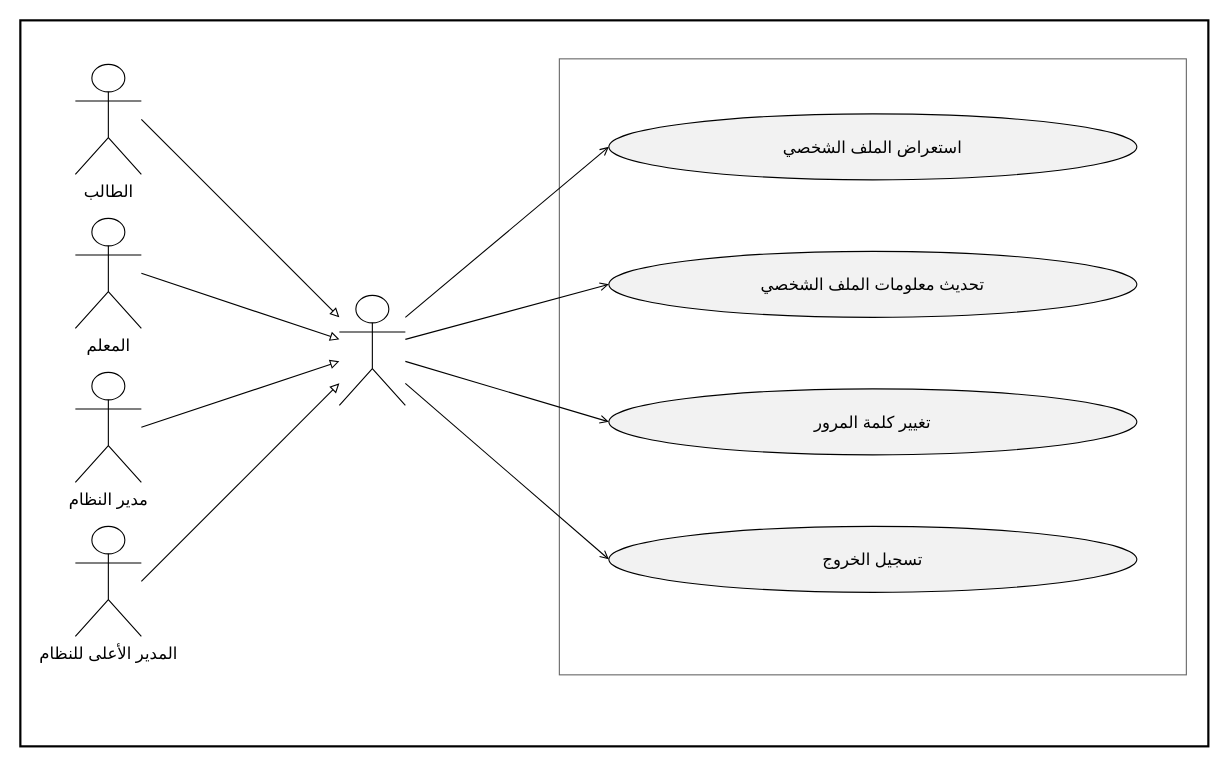
Some shapes in this 1228 by 766 pixel diagram are drawn without their labels. The shapes that lost their labels are listed below. From the top down, each one's box as (x1, y1, x2, y2) in pixels, then its label:
(338, 294, 405, 405): مستخدم مصرّح له
(558, 58, 1186, 675): النظام
